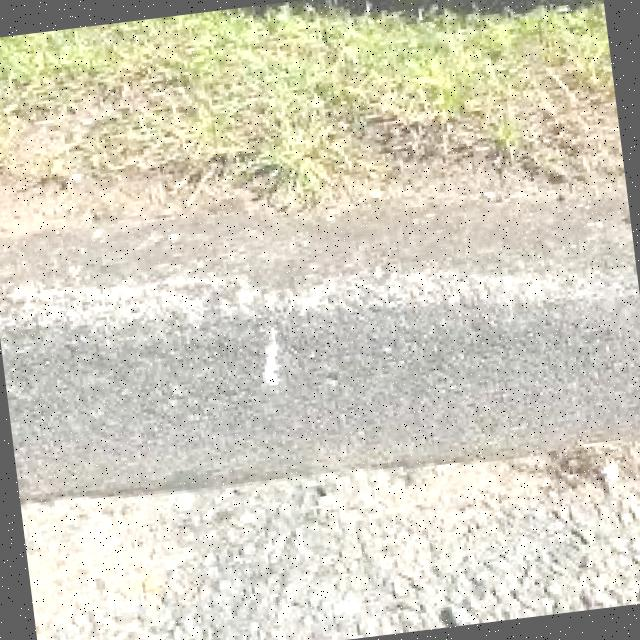curb: (1, 186, 640, 502)
